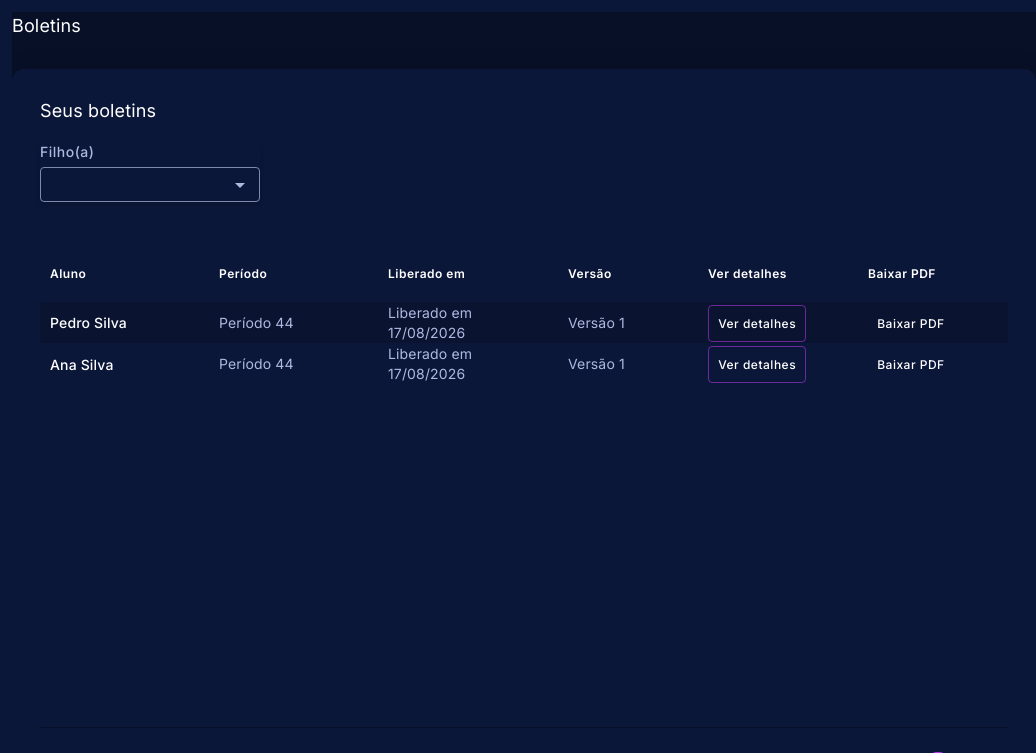
it: MyReportCards › filters by child
Expected: the text "Pedro Silva" is shown, [50, 312, 127, 334]
Step 1. Click the dropdown named "filho" → (150, 185), box [51, 176, 249, 194]
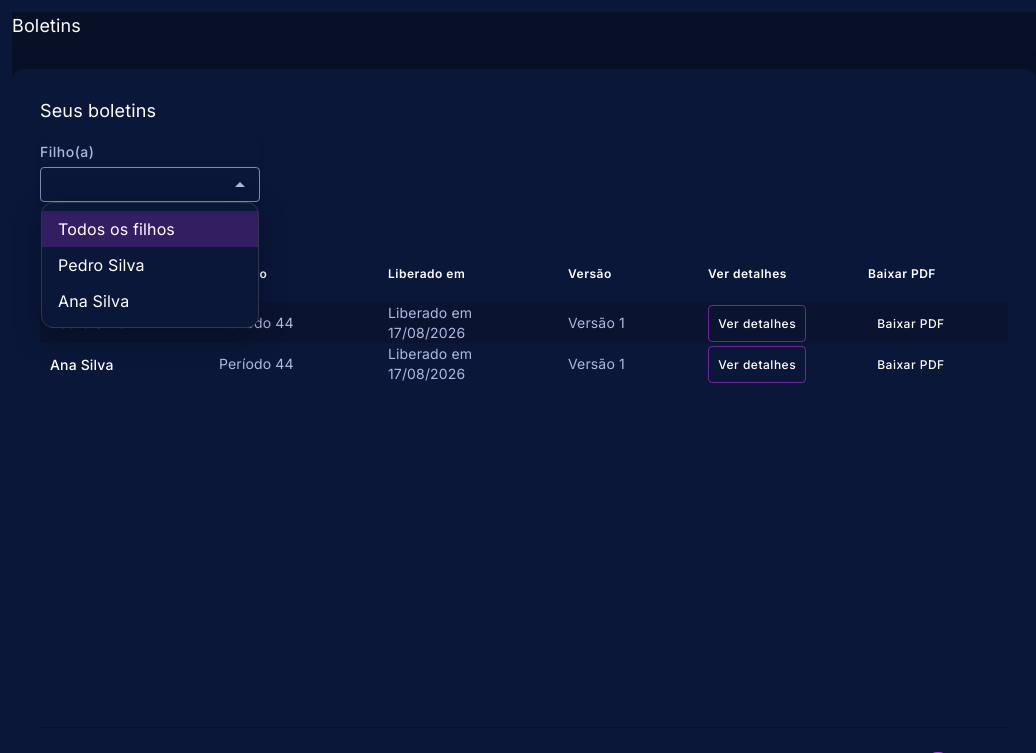
Step 2. Click the option "Pedro Silva" → (101, 265), box [58, 255, 145, 275]
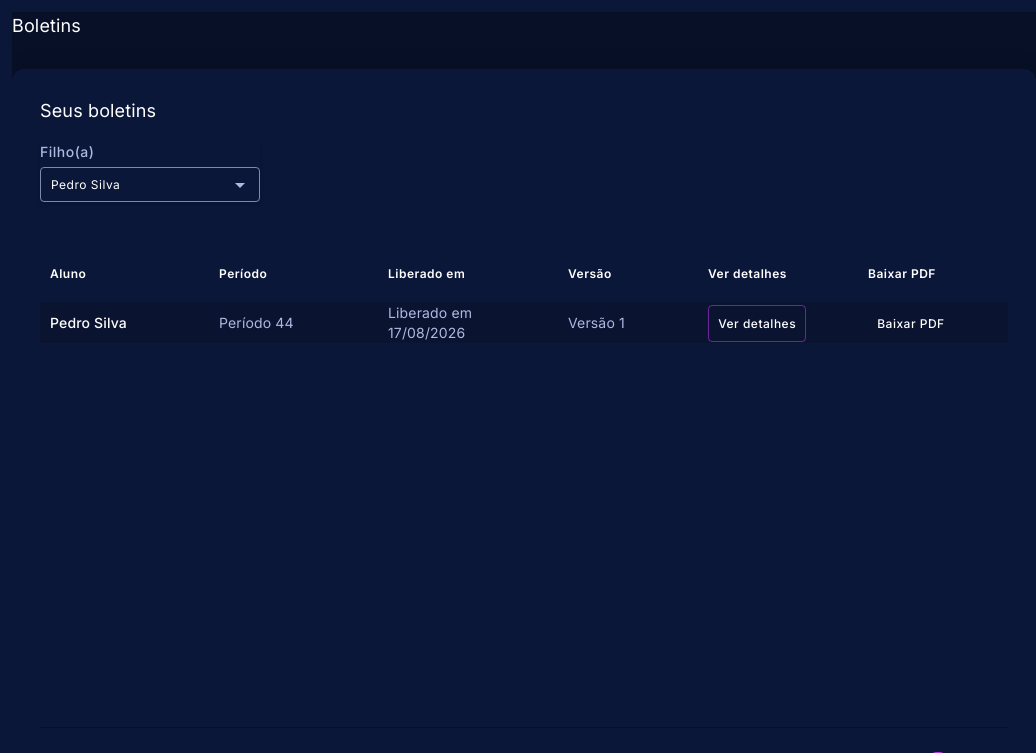
Expected: the dropdown "Pedro Silva" is shown, [51, 177, 120, 192]
Expected: the text "Ana Silva" is gone
